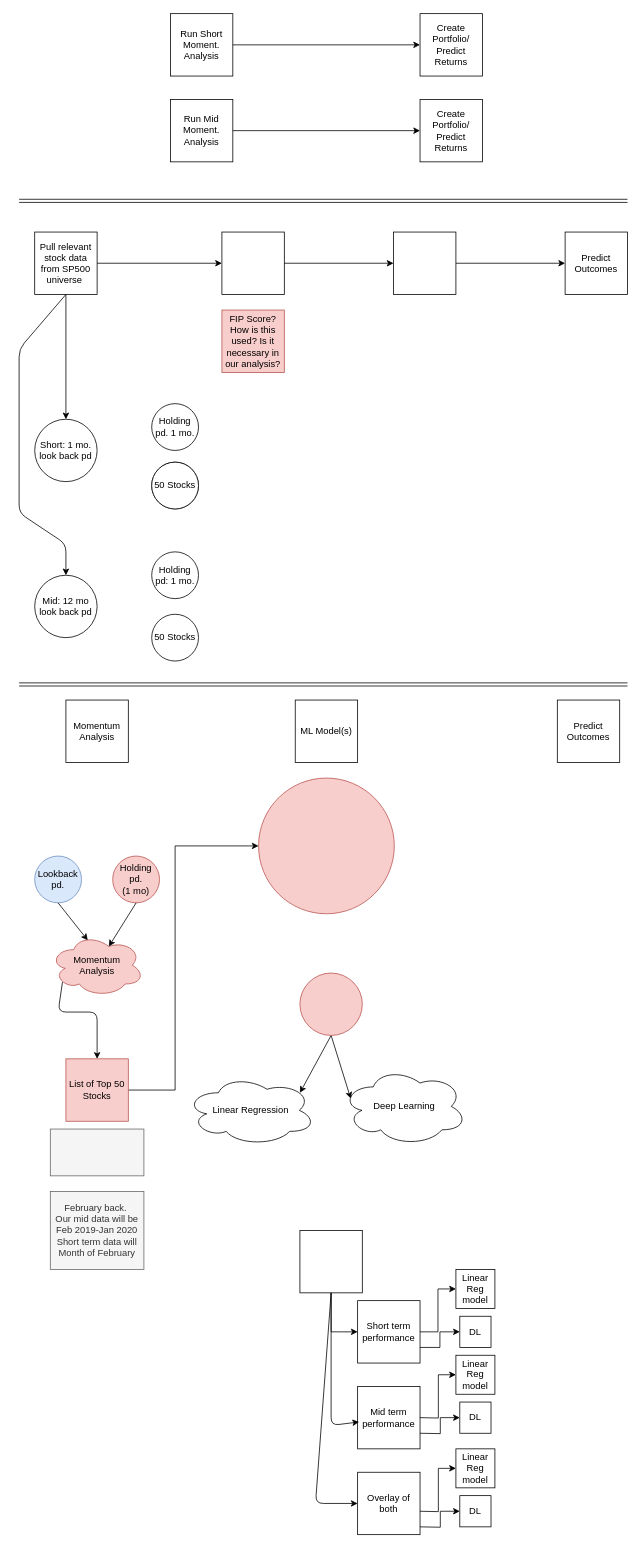
Some shapes in this 641 by 1548 pixel diagram are drawn without their labels. Here are the shapes that lost their labels. From the top down, the centre of each, then its label:
the point at 252,262: Run Momentum Code, obtain stocks 2 buy
the point at 424,262: Plug stock data into ML model
the point at 326,845: DATES PRICE CUM. RET. % DAYS UP % DAYS DOWN FIP SCORE STONKS *VOLATILITY*
the point at 330,1003: Dates Prices Stonks
the point at 97,1152: FIP is only looking at trading days in the lookback pd.
the point at 330,1261: Dashboard
